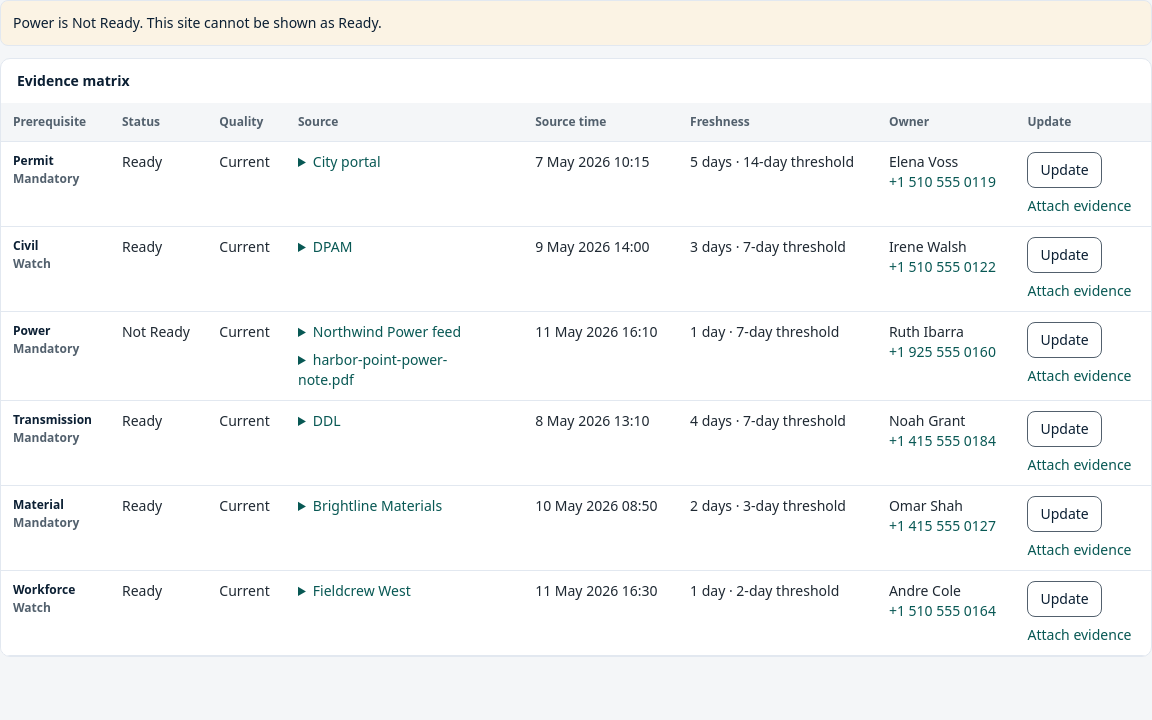
saves an Unavailable row with a blank time and renders Missing with no timestamp
Click the button with aria-label "Update Power" at (1065, 340), box [1028, 322, 1102, 358]
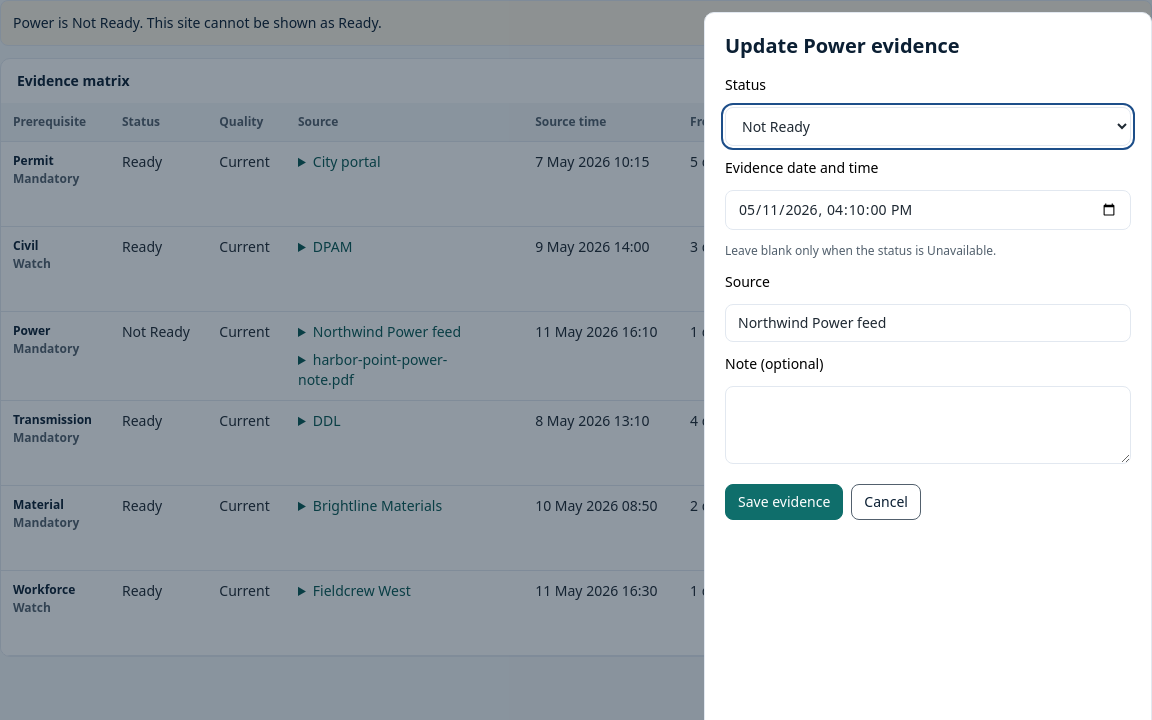
Select "Unavailable" in the dropdown labelled "Status" at (928, 126), box [725, 107, 1131, 146]
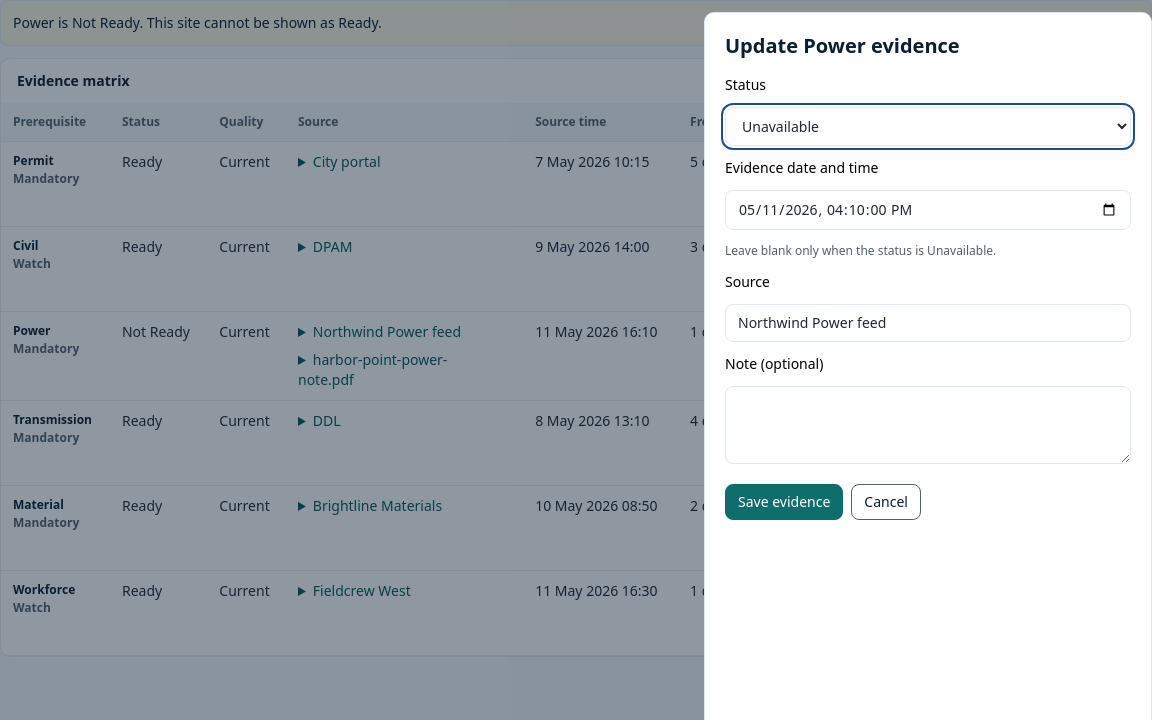
Clear the field labelled "Evidence date and time" at (928, 210), box [725, 190, 1131, 230]
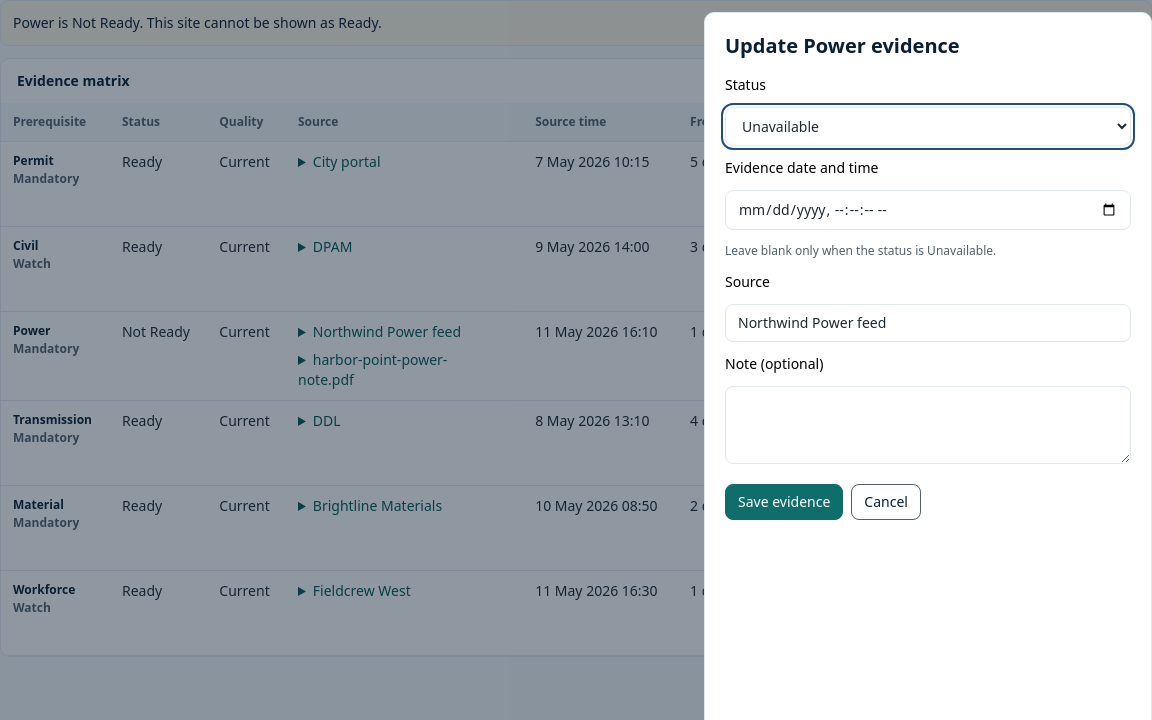
Click the button "Save evidence" at (784, 502), box [725, 484, 843, 520]
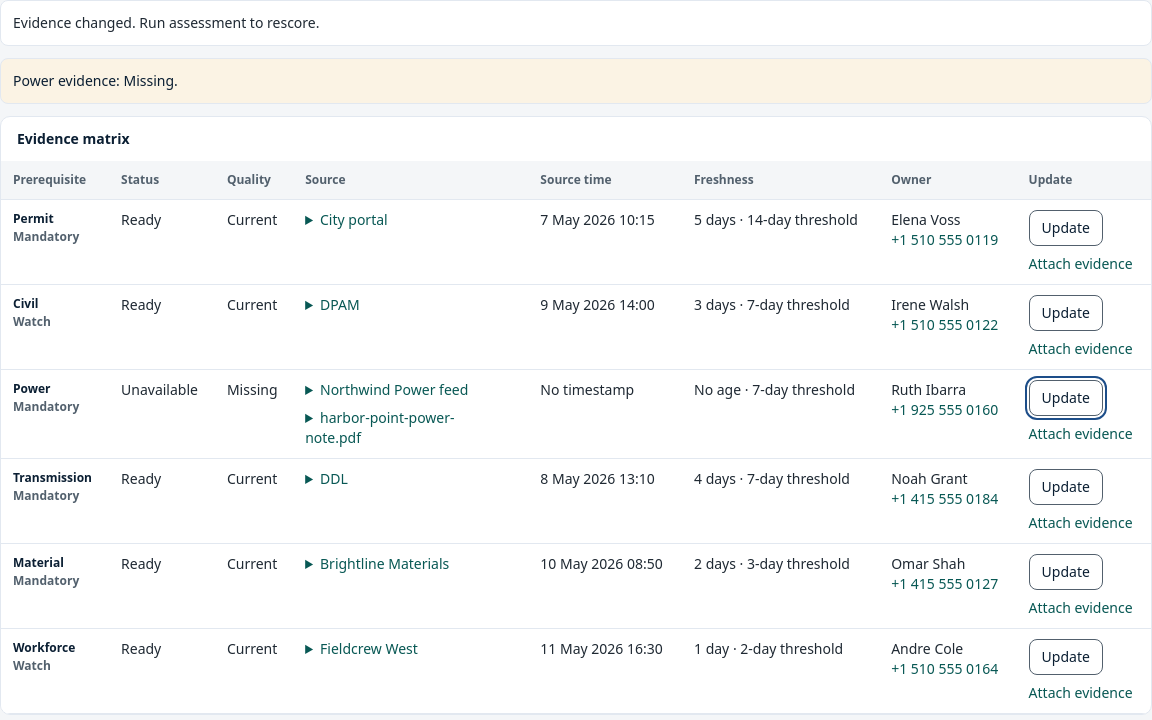
Expected: the cell "Unavailable" is shown, [109, 370, 215, 458]
Expected: the cell "Missing" is shown, [215, 370, 293, 458]
Expected: the cell "No timestamp" is shown, [528, 370, 682, 458]
